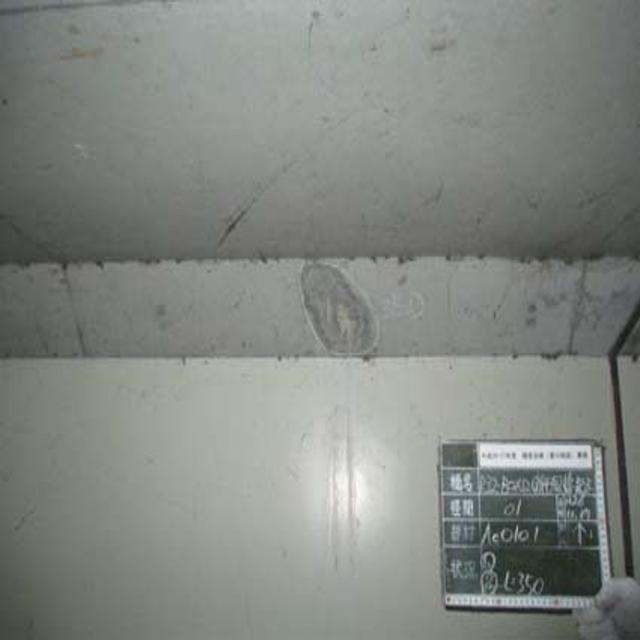freelime: (310, 264, 380, 373)
